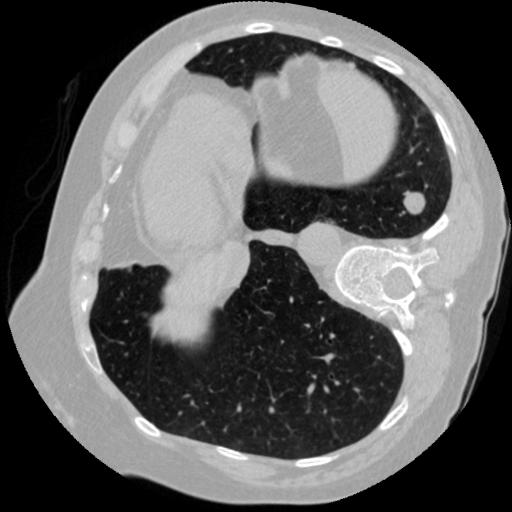nodule: (399, 189, 430, 220)
